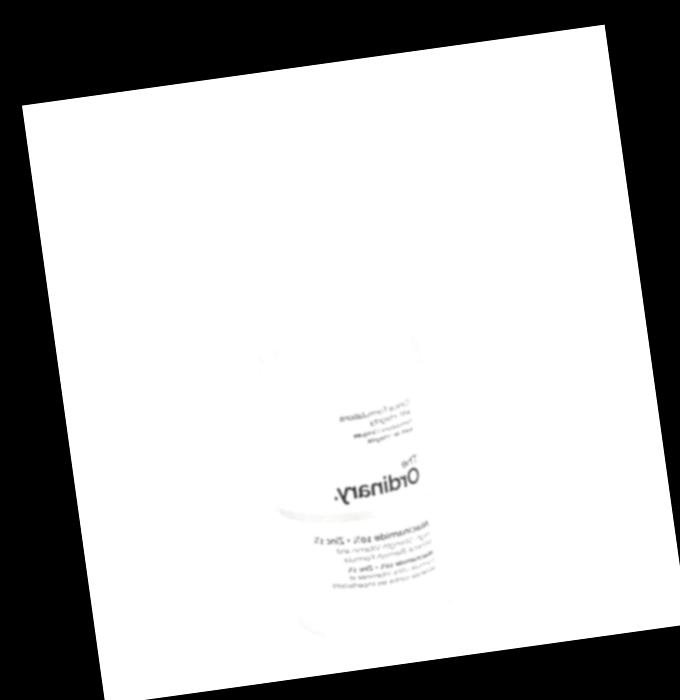cosmetic: (220, 104, 460, 645)
